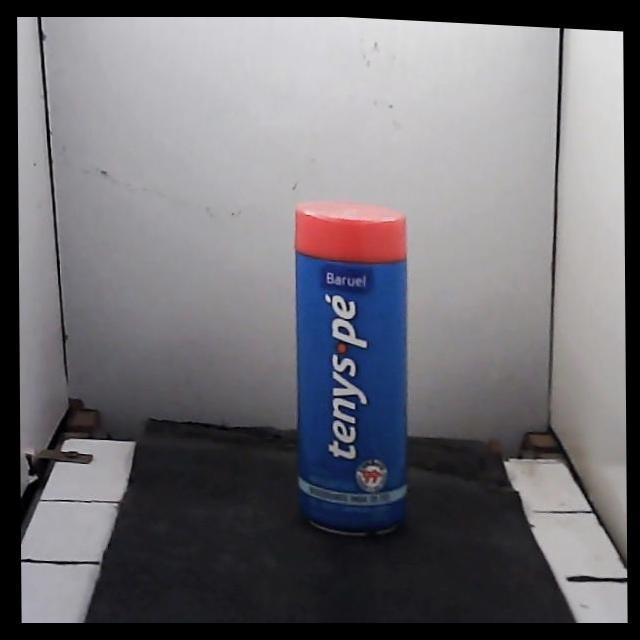plastico: (296, 201, 406, 534)
